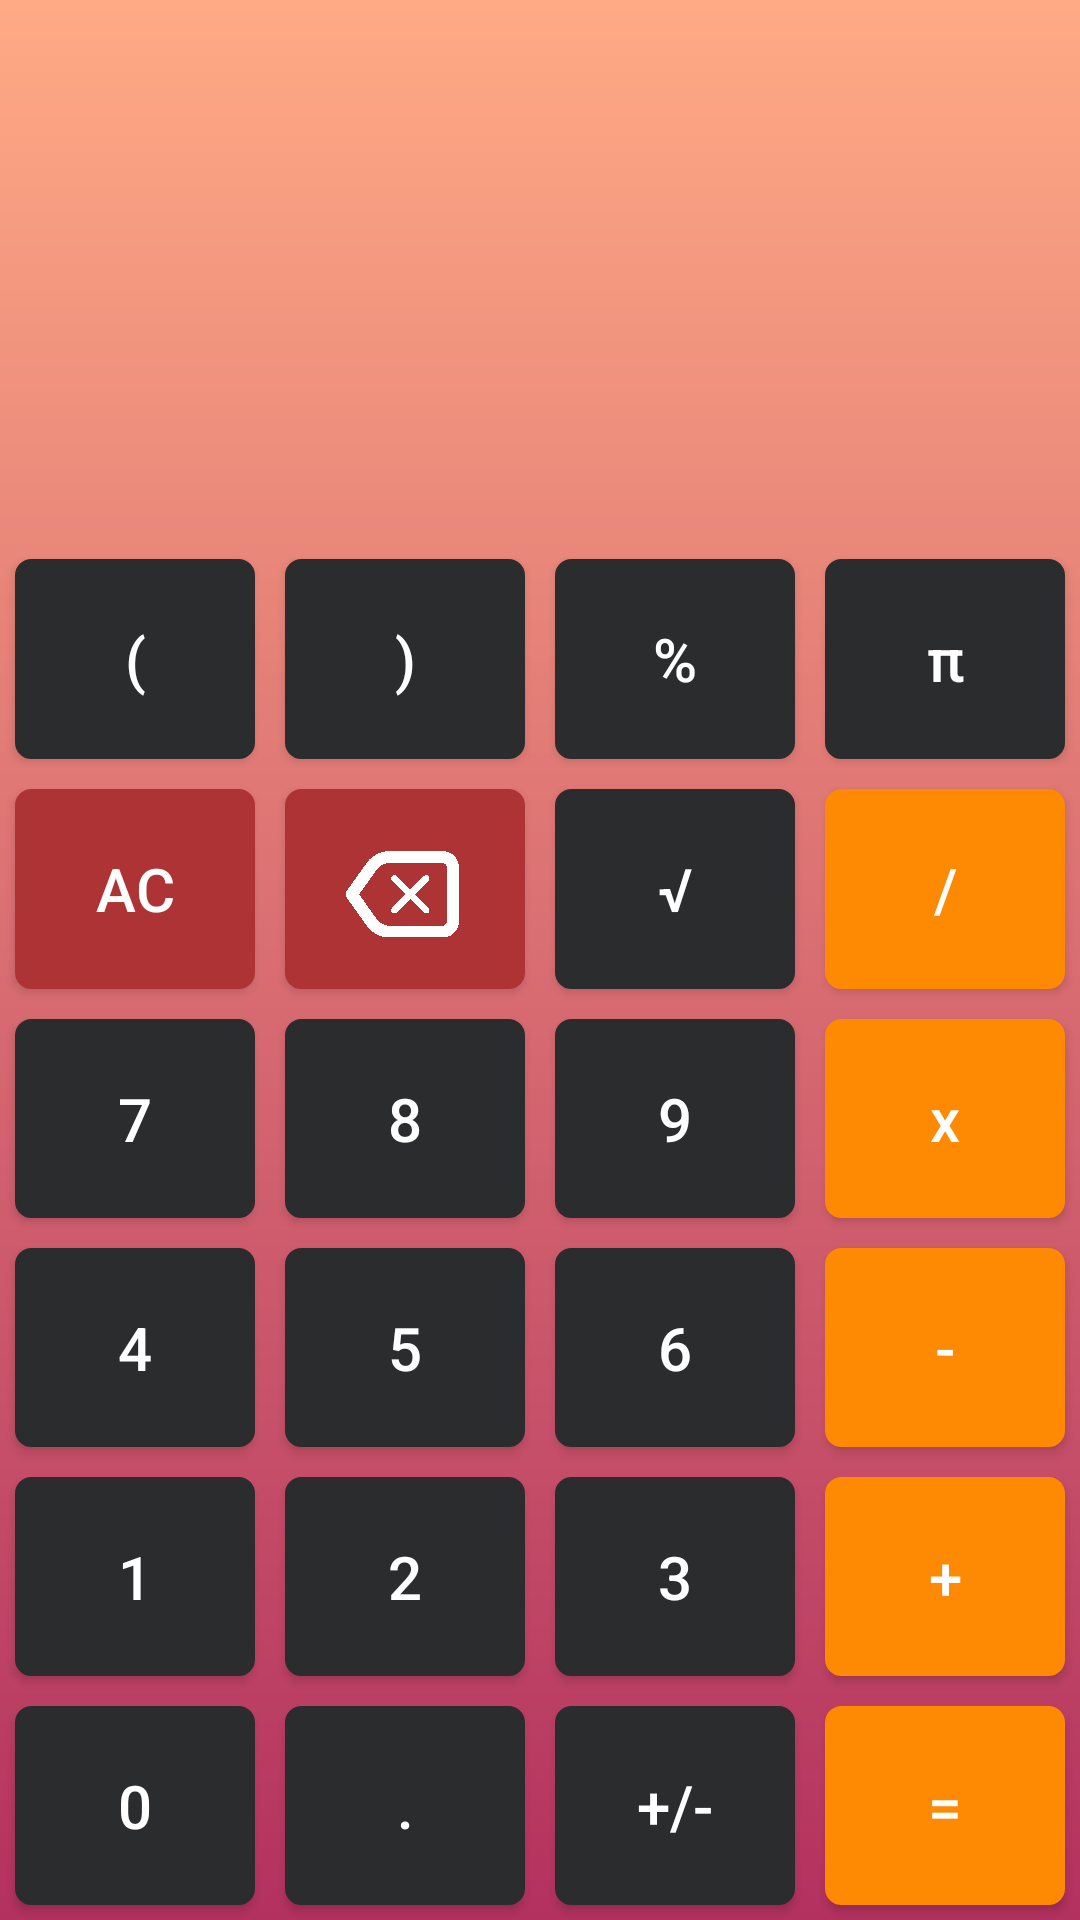

Icon bounding boxes for this 1080x1920 phone screenshot, format box=[x1, y1, x2, y2]:
backspace: box=[285, 789, 525, 989]
